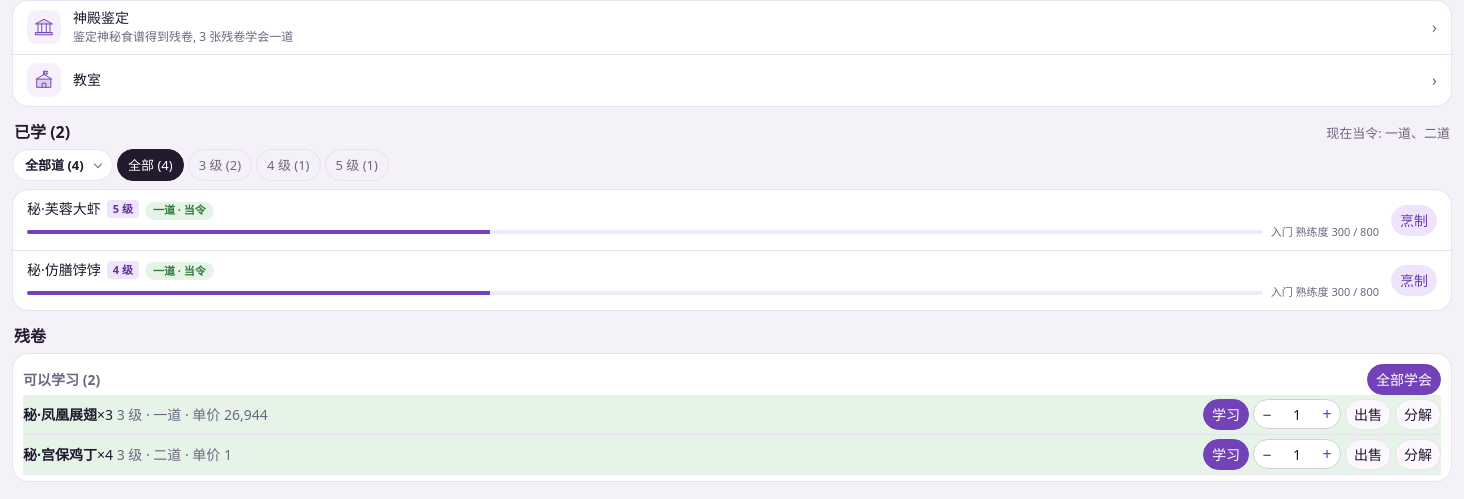
Test case: McPanel › 按级、按道分页（问题记录 414）：已学和残卷一起筛；每页写几道菜，0 道的页不显示；标出选中的页
Expected: the button with test id "mc-level-all" reads "全部 (4)", left=117, top=149, right=184, bottom=181
Click the button with test id "mc-level-3": [220, 165] box left=188, top=149, right=252, bottom=181
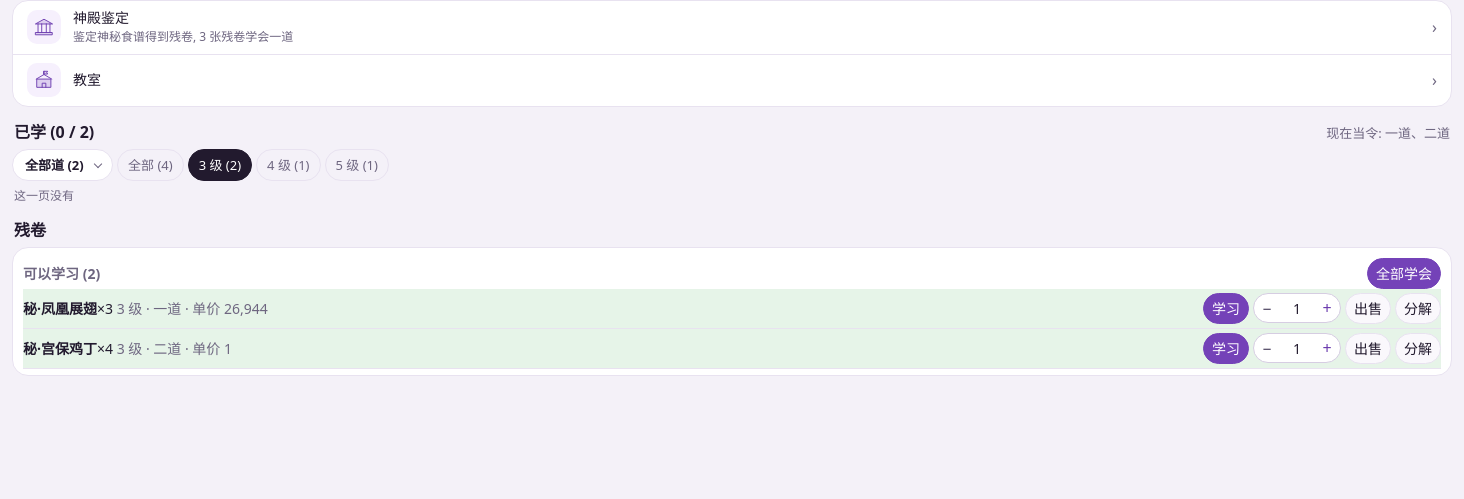
Expected: the element with test id "mc-level-3" is shown, left=12, top=149, right=389, bottom=181
Now the text "已学 (0 / 2)" is shown, box left=14, top=121, right=94, bottom=143
Now the text with test id "mc-learned-none" reads "这一页没有", box left=14, top=187, right=74, bottom=204
Select "二道 (1)" in the dropdown with test id "mc-road": [62, 165] box left=12, top=149, right=113, bottom=181
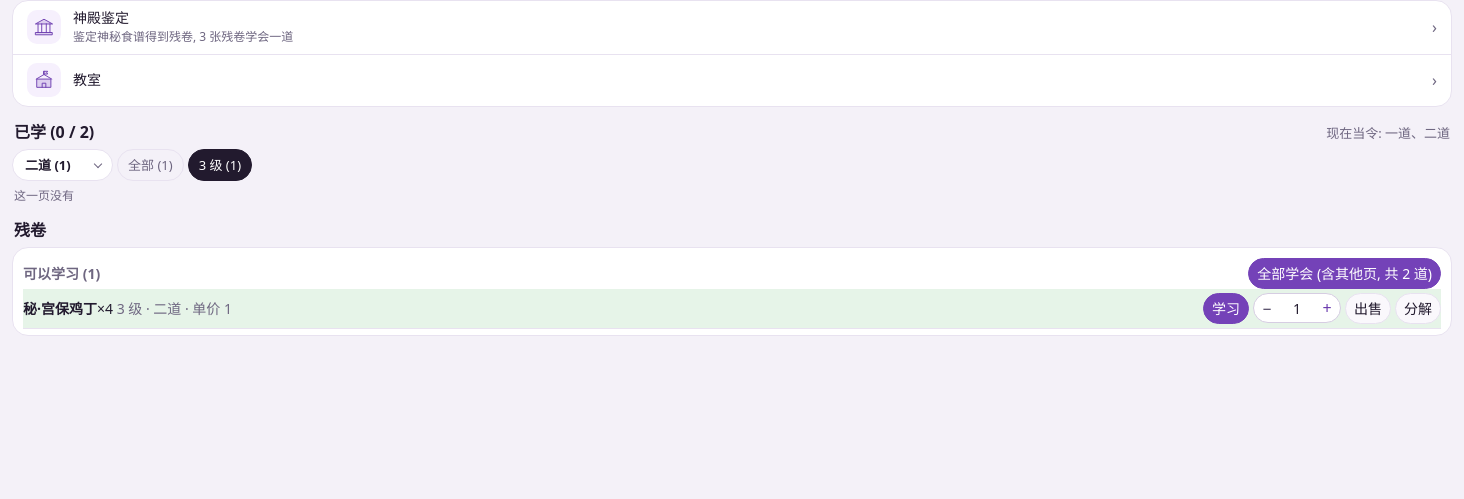
Now the button with test id "learn-all" reads "全部学会 (含其他页, 共 2 道)", box left=1248, top=258, right=1441, bottom=289
